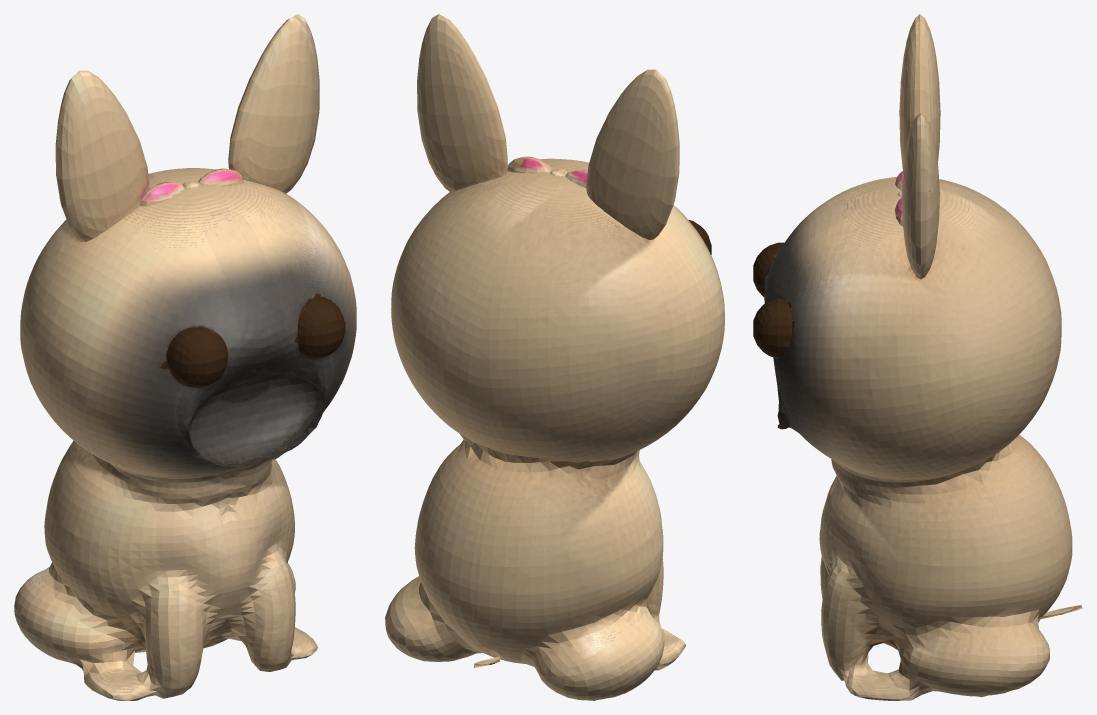
The model's file is figure.glb.
3 renders of one model, left to right at view 1: azimuth 30°, elevation 25°; view 2: azimuth 150°, elevation 25°; view 3: azimuth 270°, elevation 25°, orthographic. The views are drawn at different scales.
Parts seen in each view (by area): view 1: figure; view 2: figure; view 3: figure.
Boxes of the visible parts, bbox=[...] form: figure: bbox=[14, 14, 356, 700]; figure: bbox=[385, 14, 724, 700]; figure: bbox=[753, 14, 1082, 700].
Bounding box in the file's own units: 47.7 × 93.93 × 47.36.
Materials: 1 (1 with a texture image).
